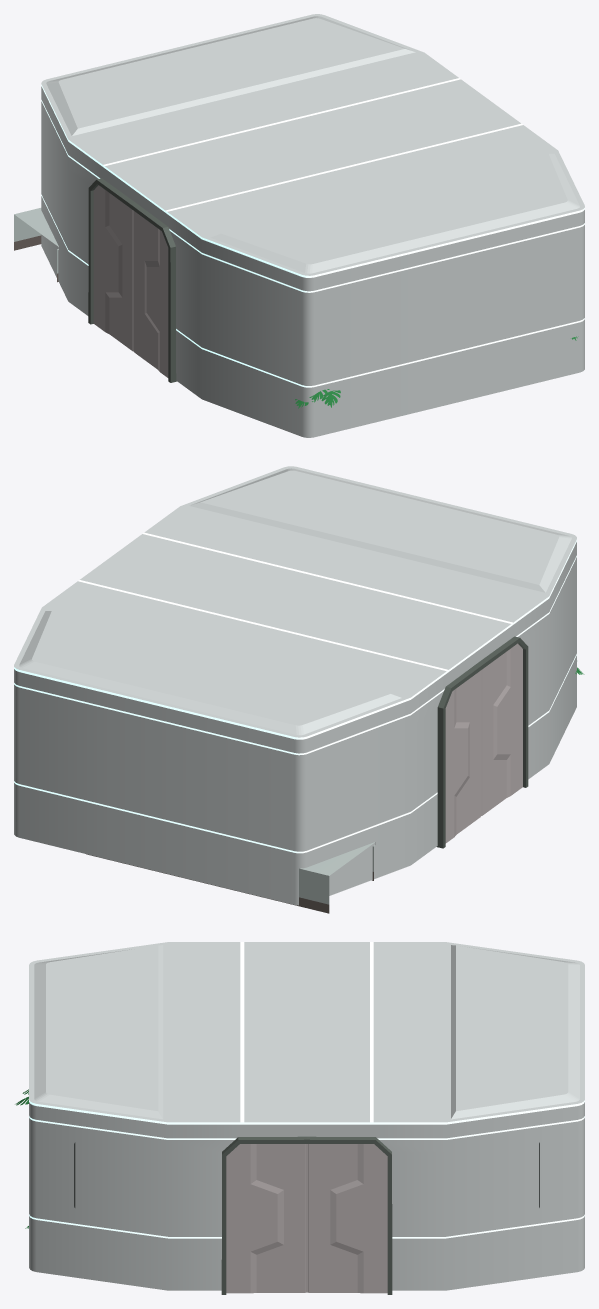
3 renders of one model, top to bottom at view 1: azimuth 30°, elevation 25°; view 2: azimuth 150°, elevation 25°; view 3: azimuth 270°, elevation 25°, orthographic. The views are drawn at different scales.
Parts seen in each view (by area): view 1: roof, room_wall, Cube.002, Cube.003, sitting_table; view 2: roof, room_wall, Cube.002, Cube.003, sitting_table; view 3: roof, room_wall, Cube, Cube.001.
Boxes of the visible parts, x1=… form: roof: x1=41, y1=14, x2=584, y2=275; room_wall: x1=41, y1=84, x2=584, y2=437; Cube.002: x1=93, y1=185, x2=168, y2=377; Cube.003: x1=88, y1=178, x2=176, y2=382; sitting_table: x1=14, y1=208, x2=58, y2=282; roof: x1=14, y1=466, x2=576, y2=737; room_wall: x1=14, y1=539, x2=576, y2=905; Cube.002: x1=445, y1=643, x2=522, y2=843; Cube.003: x1=436, y1=636, x2=528, y2=848; sitting_table: x1=86, y1=842, x2=375, y2=913; roof: x1=29, y1=942, x2=584, y2=1122; room_wall: x1=29, y1=1100, x2=584, y2=1290; Cube: x1=226, y1=1144, x2=387, y2=1293; Cube.001: x1=221, y1=1136, x2=392, y2=1294.
Bounding box in the file's own units: 4.75 × 2.06 × 6.15.
